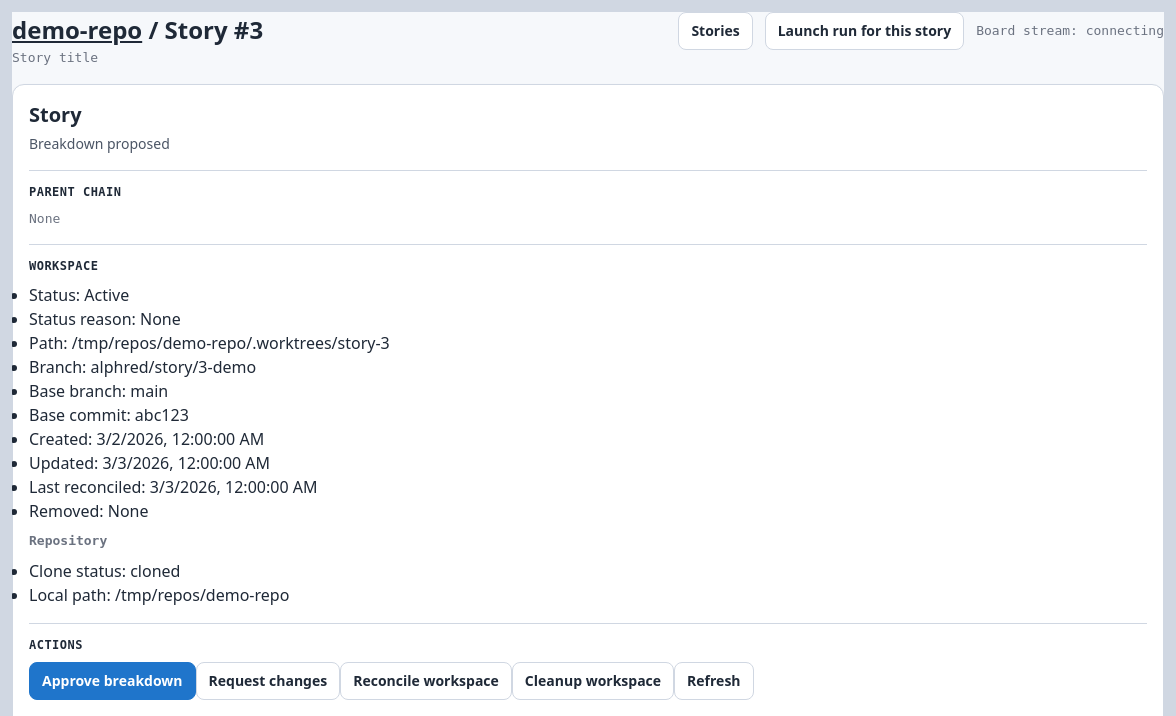
StoryDetailPageContent › shows workflow errors when approving a breakdown fails
Click the button "Approve breakdown": click(112, 680) x1=29 y1=662 x2=196 y2=700
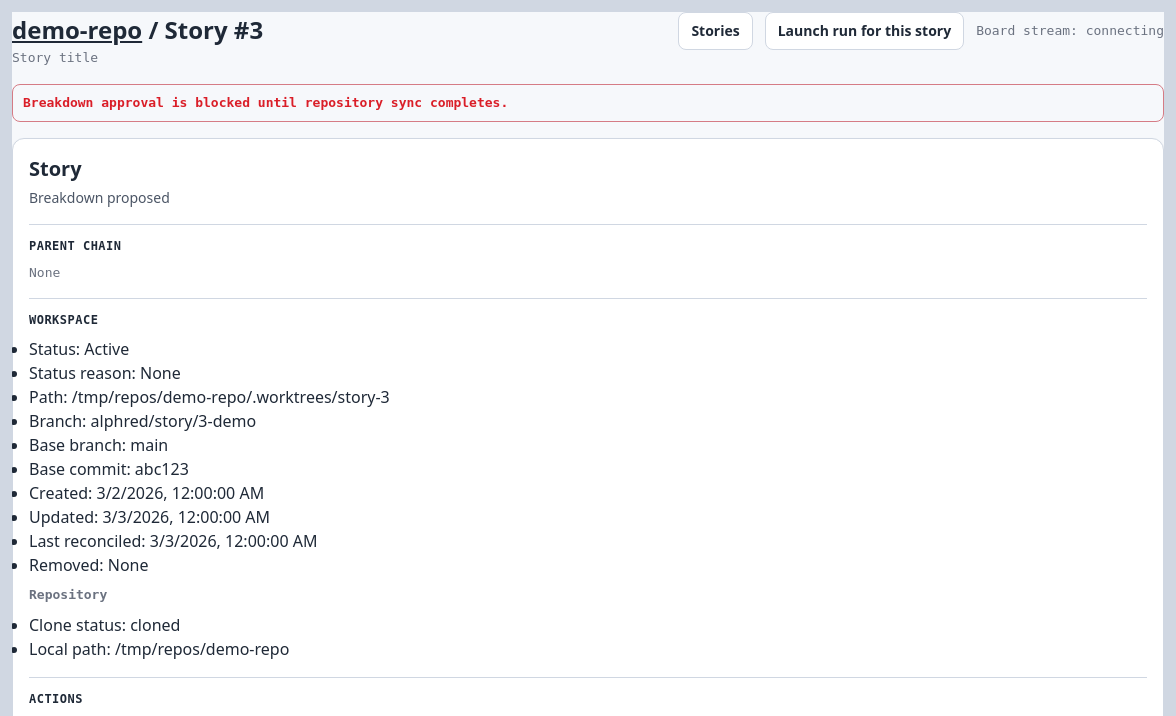
Check: the message reads "Breakdown approval is blocked until repository sync completes.", box x1=23 y1=94 x2=508 y2=110
